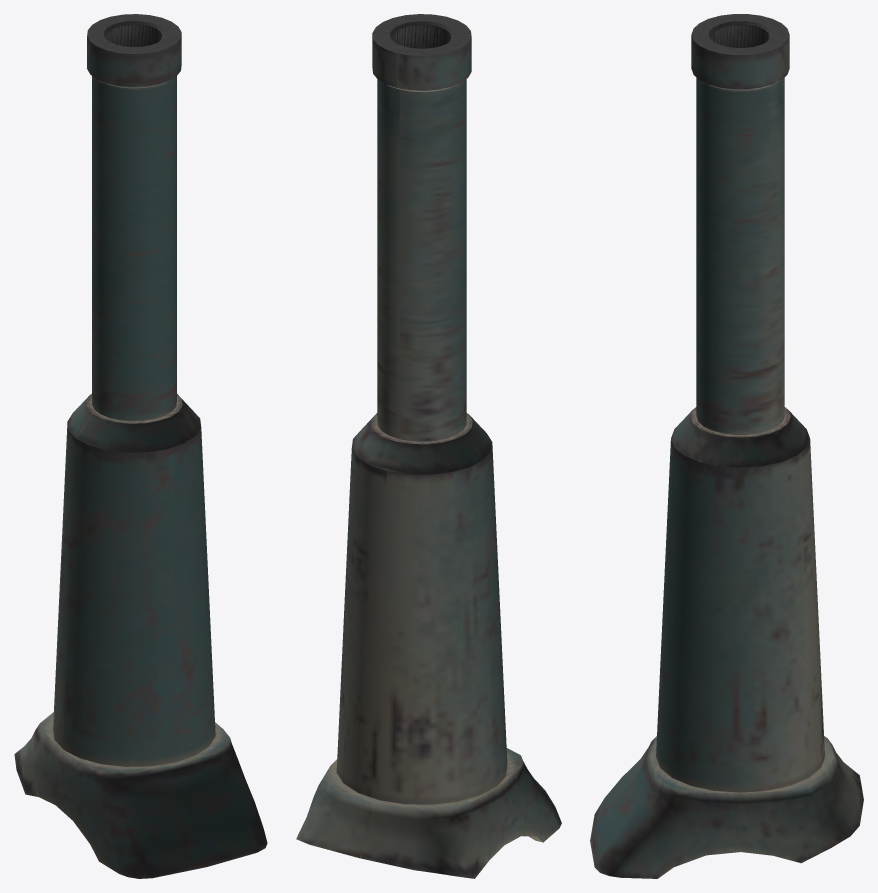
File: Gun_05.glb
3 views of the same model, side by side, from view 1: azimuth 30°, elevation 25°; view 2: azimuth 150°, elevation 25°; view 3: azimuth 270°, elevation 25° (orthographic). The views are drawn at different scales.
Parts seen in each view (by area): view 1: set_0_group_0; view 2: set_0_group_0; view 3: set_0_group_0.
Boxes of the visible parts, x1,y1,x2,y2 form: set_0_group_0: [14, 14, 267, 878]; set_0_group_0: [296, 14, 561, 878]; set_0_group_0: [590, 14, 863, 878].
Size of the model in its own units: 0.3404 by 1.59 by 0.4906.
1 material, 1 textured.
